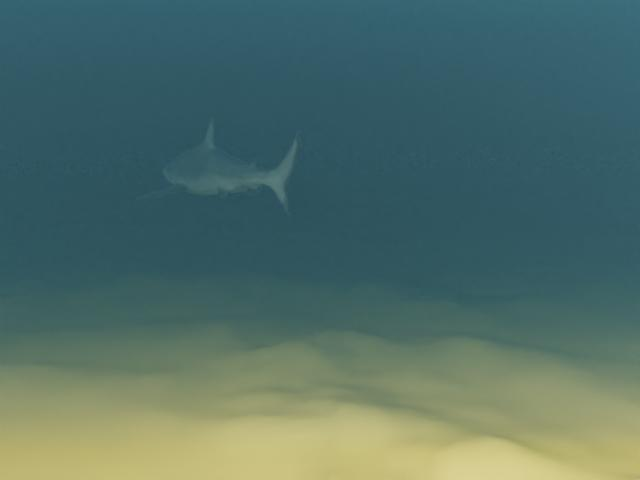Carribean Shark.001: (132, 116, 301, 214)
